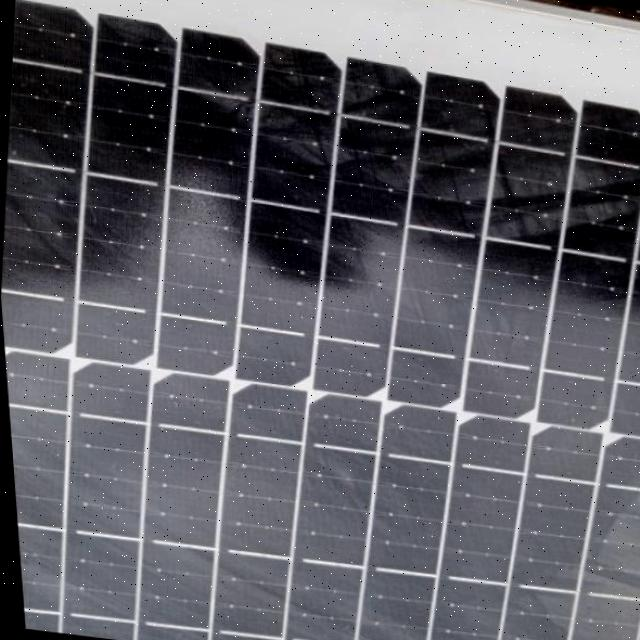Surface Contaminant: (0, 65, 640, 640)
